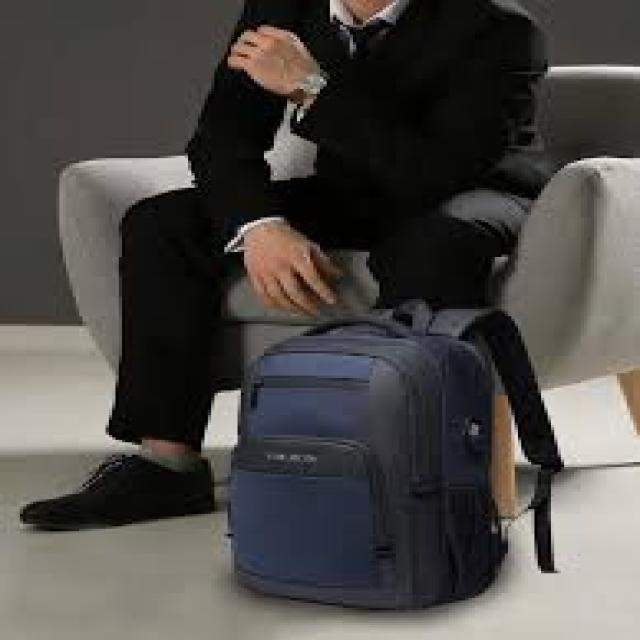backpack: (225, 300, 565, 611)
